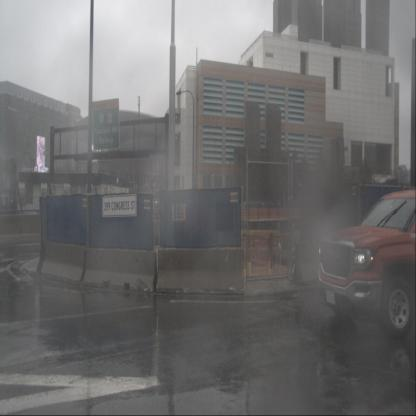barrier: (156, 247, 244, 295), (82, 247, 158, 293), (40, 242, 87, 284), (292, 240, 319, 286)
